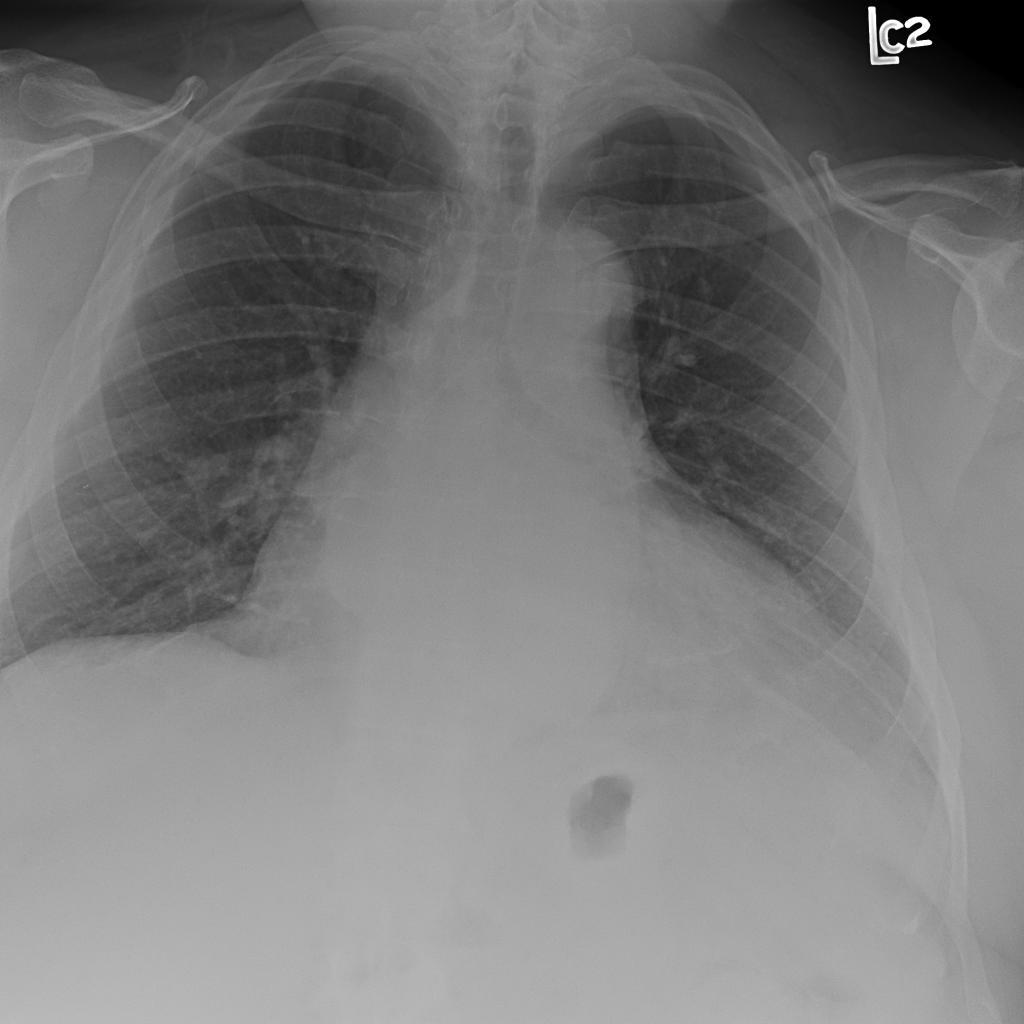Nodule: (408, 344, 466, 400)
